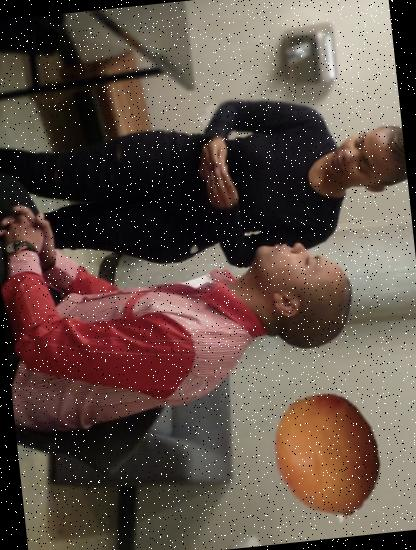Apricot: (258, 386, 396, 524)
